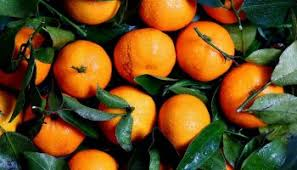orange: (219, 64, 285, 128), (22, 92, 91, 153), (110, 27, 175, 86), (174, 20, 234, 79), (99, 87, 156, 144), (157, 92, 214, 149), (51, 42, 110, 96)
